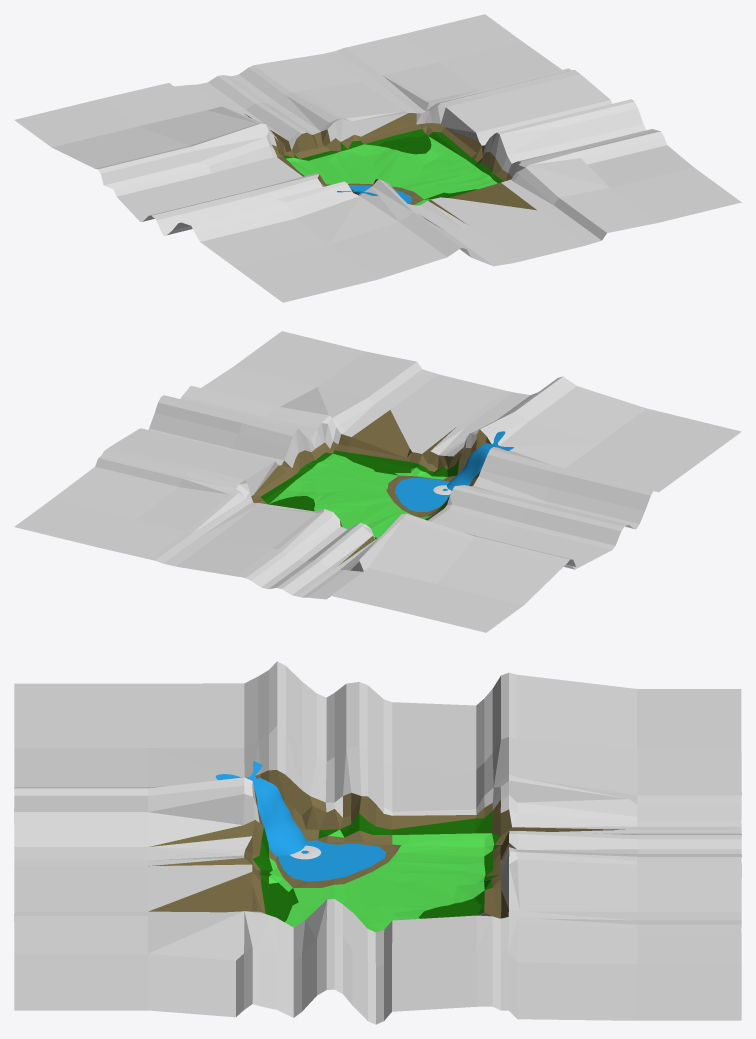
Rendered from WaterfallLevel.fbx.
3 views of the same model, one above another, from view 1: azimuth 30°, elevation 25°; view 2: azimuth 150°, elevation 25°; view 3: azimuth 270°, elevation 25° (orthographic). The views are drawn at different scales.
Parts seen in each view (by area): view 1: Tereno, Tereno.001; view 2: Tereno, Tereno.001, lago, Cascada; view 3: Tereno, Tereno.001, lago, Cascada.
Part boxes in pixels (bbox=[...]): Tereno: bbox=[14, 14, 741, 302]; Tereno.001: bbox=[278, 124, 504, 205]; Tereno: bbox=[14, 331, 741, 632]; Tereno.001: bbox=[257, 450, 455, 538]; lago: bbox=[395, 477, 449, 511]; Cascada: bbox=[447, 431, 513, 490]; Tereno: bbox=[14, 661, 741, 1024]; Tereno.001: bbox=[268, 811, 497, 932]; lago: bbox=[278, 840, 385, 881]; Cascada: bbox=[215, 761, 305, 856].
Size of the model in its own units: 7068 by 825 by 6814.
